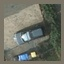car: (14, 26, 43, 47)
